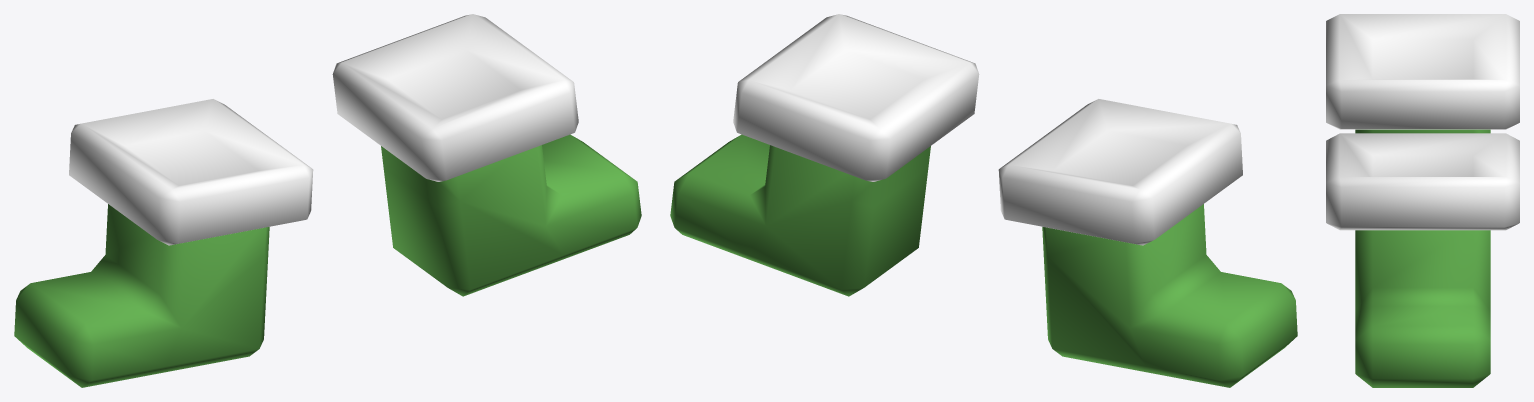
File: item-puke-shoes.glb
3 views of the same model, side by side, from view 1: azimuth 30°, elevation 25°; view 2: azimuth 150°, elevation 25°; view 3: azimuth 270°, elevation 25° (orthographic). The views are drawn at different scales.
Bounding box in the file's own units: 0.0411 × 0.0149 × 0.0131.
